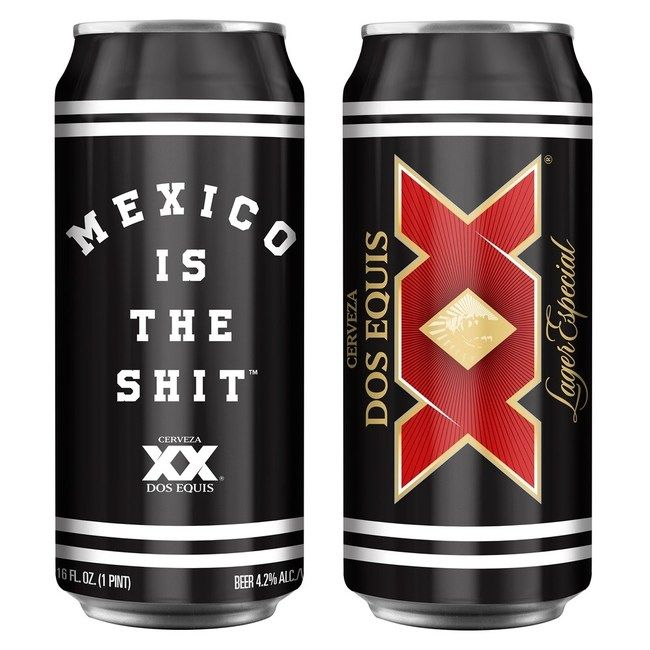beer can: (342, 19, 594, 629), (55, 21, 305, 627)
